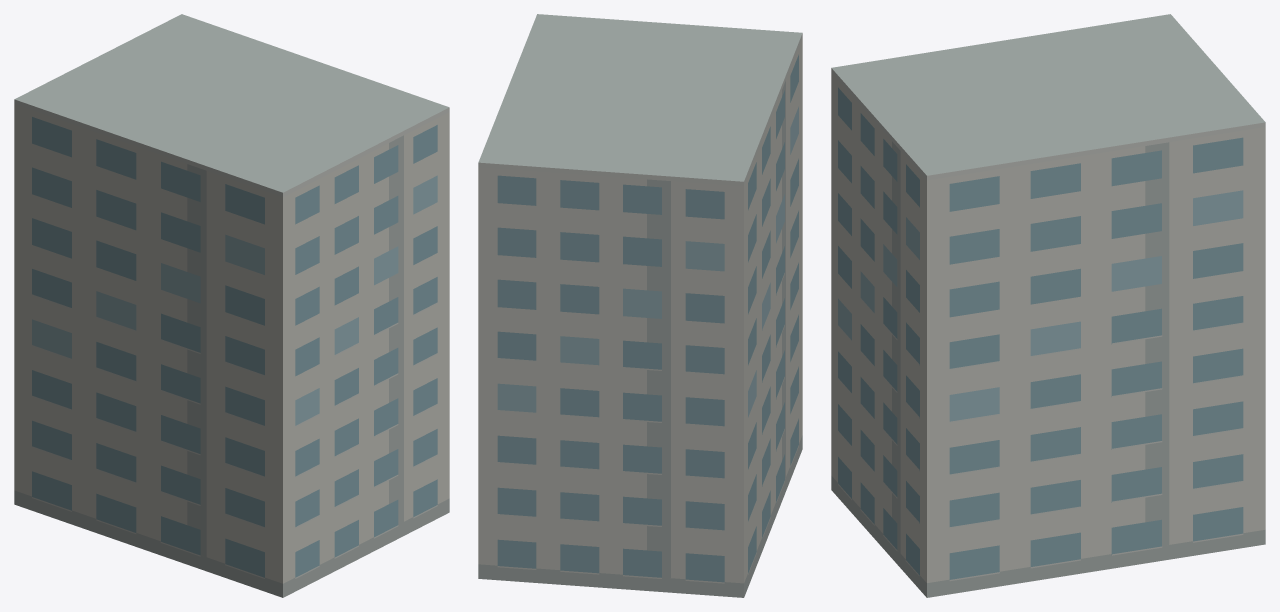
File: survey-upis-32865464.glb
3 renders of one model, left to right at view 1: azimuth 30°, elevation 25°; view 2: azimuth 150°, elevation 25°; view 3: azimuth 270°, elevation 25°, orthographic. The views are drawn at different scales.
Visible parts, largest first — view 1: survey-upis-32865464.tmp; view 2: survey-upis-32865464.tmp; view 3: survey-upis-32865464.tmp.
Boxes of the visible parts, x1,y1,x2,y2 form: survey-upis-32865464.tmp: (14, 14, 449, 597); survey-upis-32865464.tmp: (478, 14, 802, 597); survey-upis-32865464.tmp: (831, 14, 1265, 597).
Bounding box in the file's own units: 17.88 × 21.74 × 20.29.
